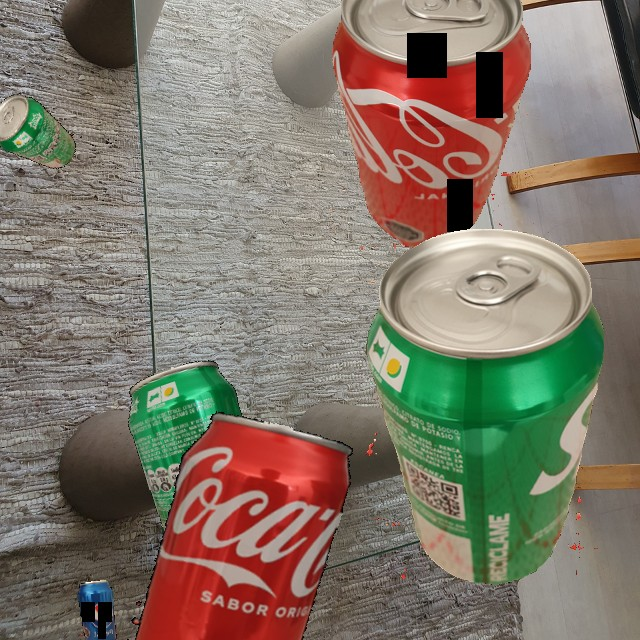coca cola: (62, 379, 398, 640), (330, 0, 534, 250)
pepsi: (77, 580, 118, 640)
sprite: (362, 228, 604, 585), (116, 350, 288, 599), (0, 84, 89, 183)
